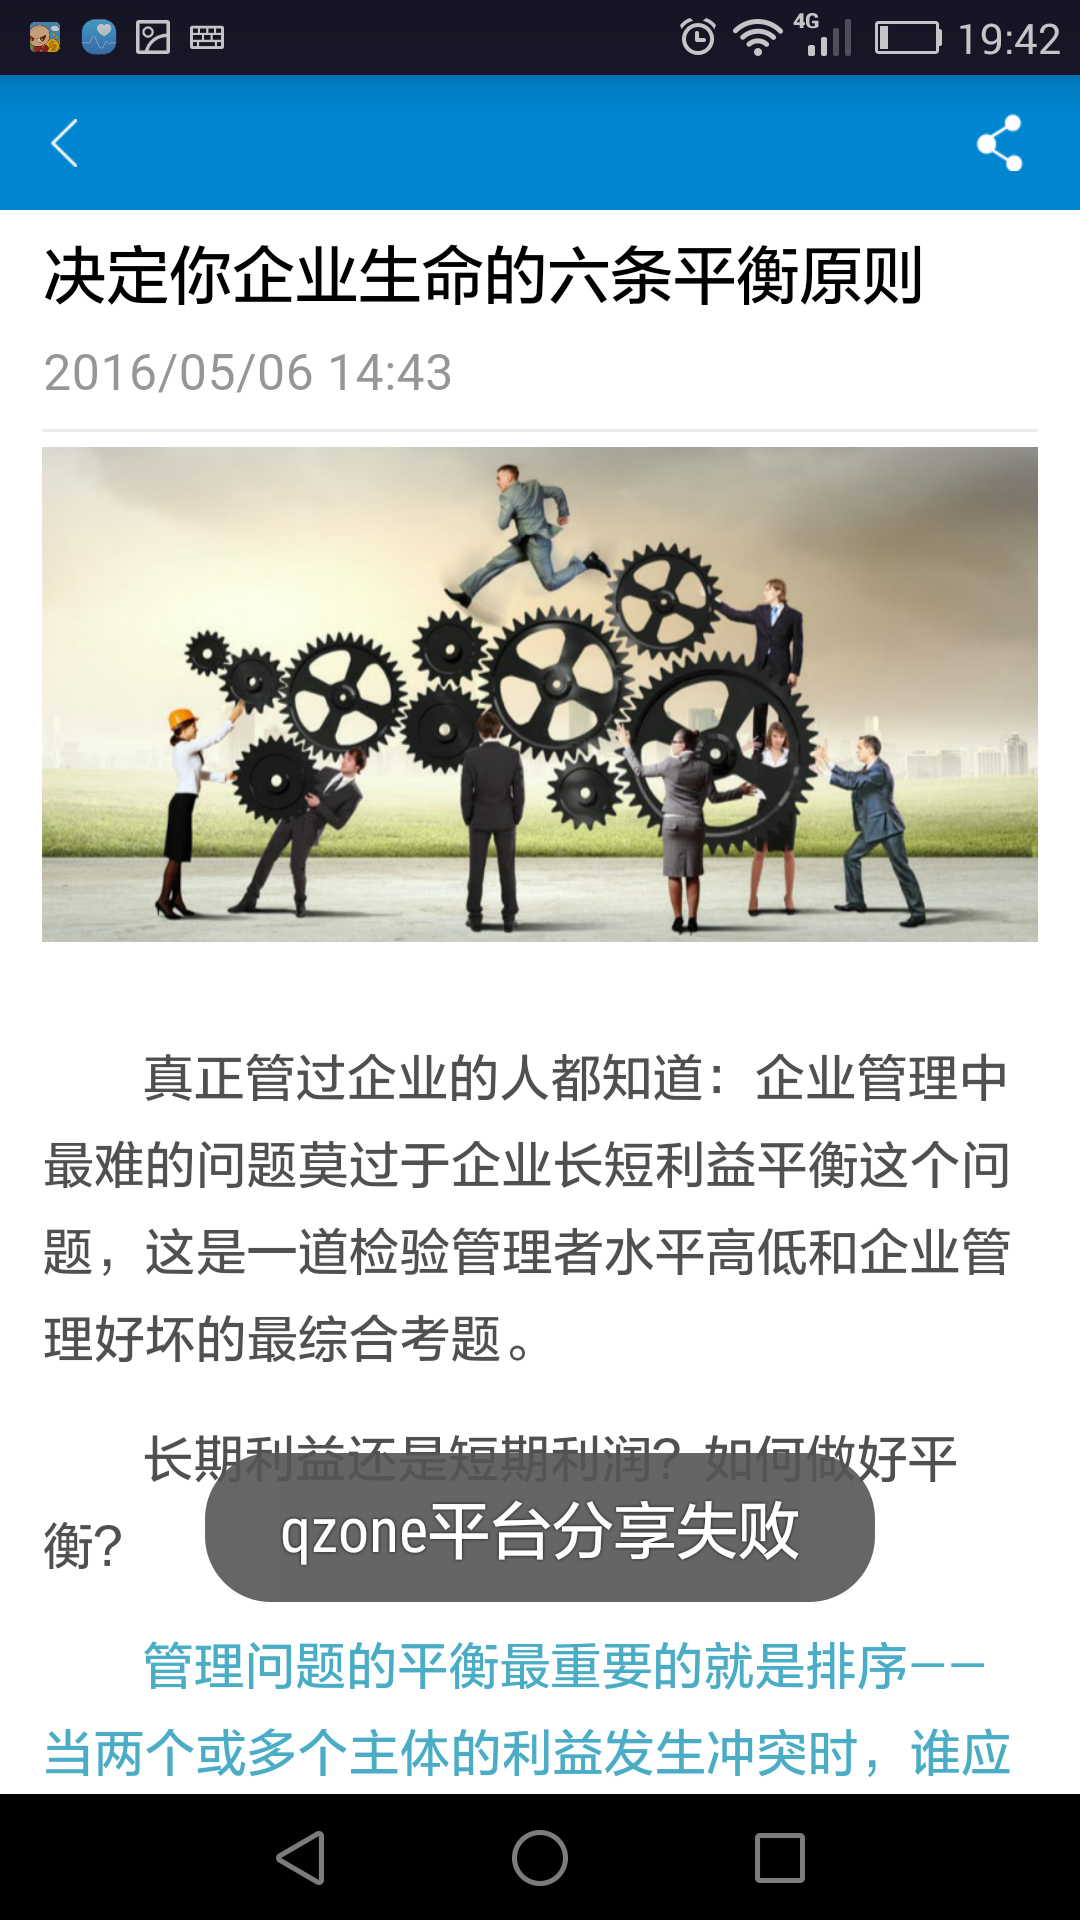alert: (189, 1449, 894, 1611)
imgview: (24, 431, 1051, 951)
textview: (26, 1040, 1033, 1382)
